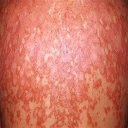Pityriasis Rubra Pilaris: (6, 15, 115, 117)
